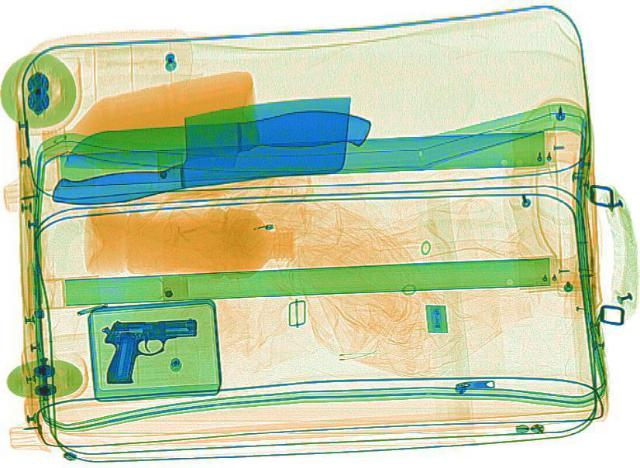Gun: (95, 313, 207, 384)
Knife: (28, 84, 374, 219), (54, 104, 380, 181)
